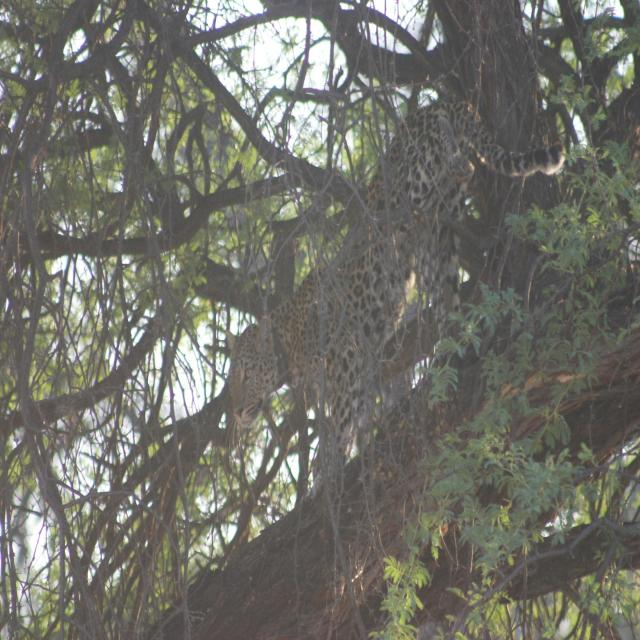Leopard: (231, 31, 530, 563)
